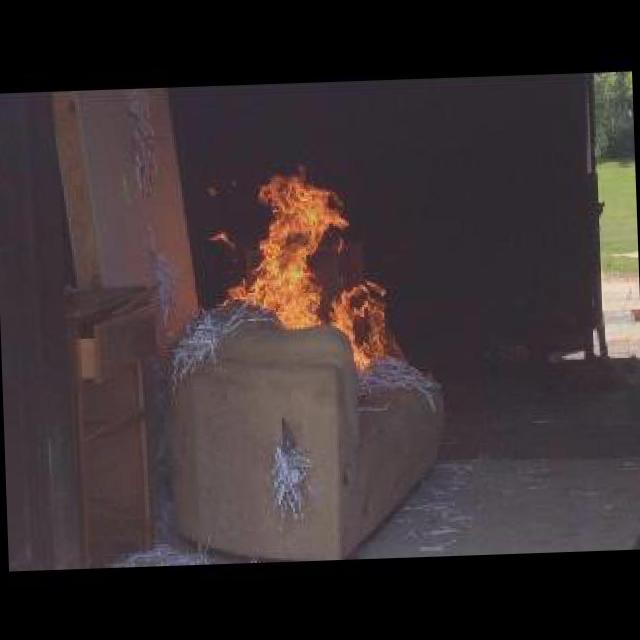Fire: (215, 160, 346, 333), (326, 269, 410, 374)
